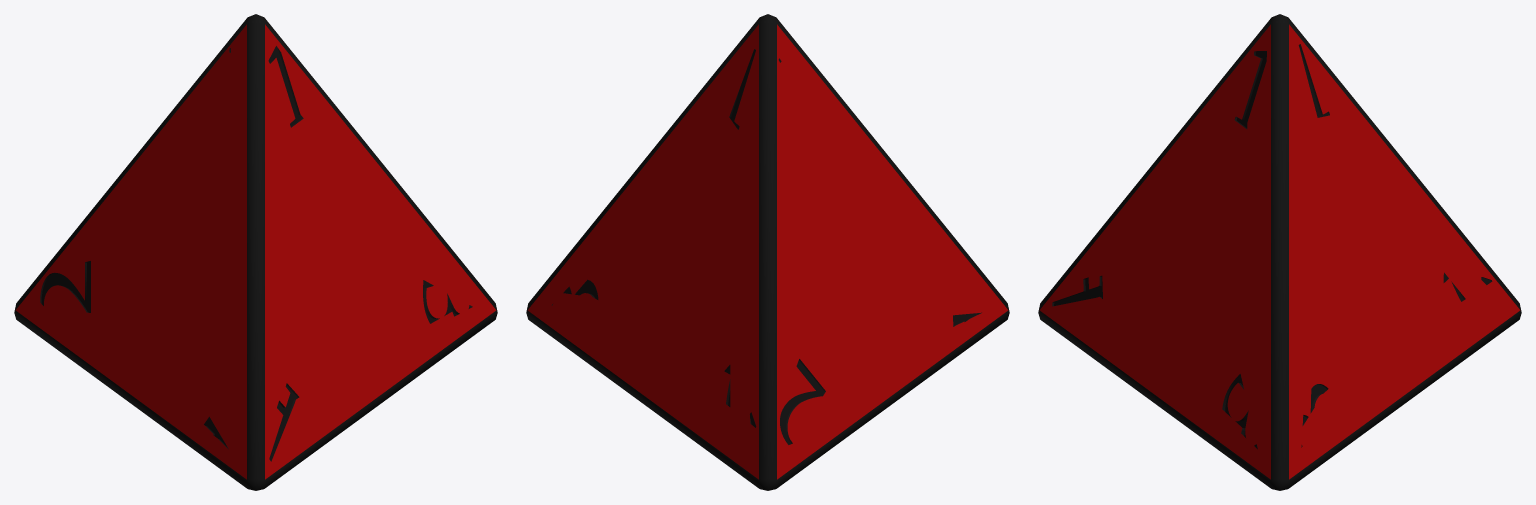
The model's file is Dice_D4.fbx.
The picture shows the model from 3 angles, left to right: view 1: azimuth 30°, elevation 25°; view 2: azimuth 150°, elevation 25°; view 3: azimuth 270°, elevation 25°; orthographic projection.
Parts seen in each view (by area): view 1: D4; view 2: D4; view 3: D4.
Part boxes in pixels (bbox=[...]): D4: bbox=[14, 14, 497, 490]; D4: bbox=[526, 14, 1009, 490]; D4: bbox=[1038, 14, 1521, 490].
Size of the model in its own units: 267 by 253 by 305.
